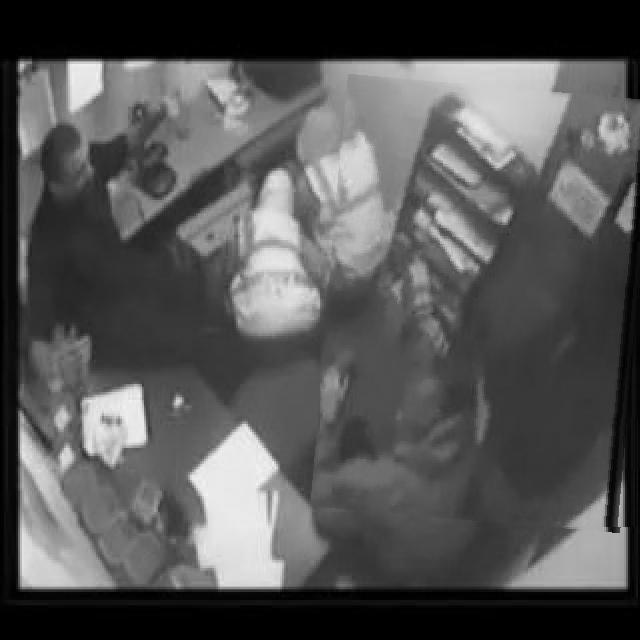Shoplifting: (320, 80, 640, 527)
